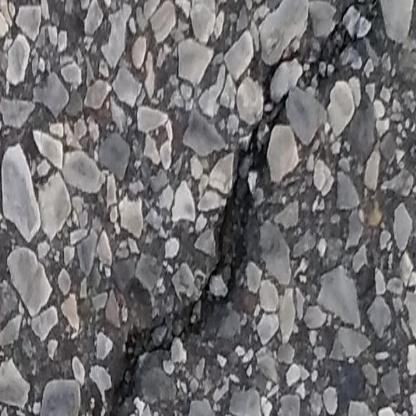Cracks: (83, 0, 400, 416)
